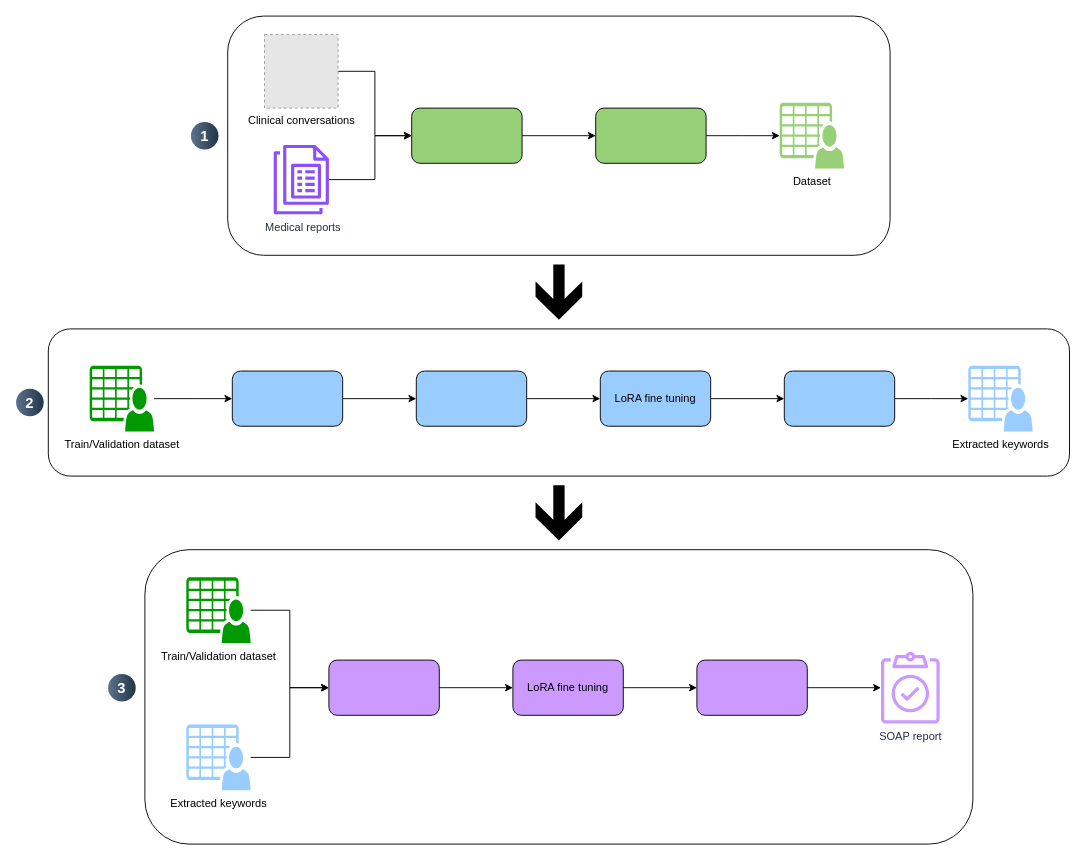
Image size: 1086x860. Some labels were removed from this diagram. Grey dashed boxes stand in for pictures. Here are the shapes that lost their labels. From the top down, the centre of each, then its label:
(x=466, y=135): Data processing
(x=650, y=135): Data set construction
(x=287, y=398): Prompt encoder
(x=471, y=398): Base ClinicalBERT model
(x=839, y=398): Tuned BERT model
(x=383, y=687): TxGemma model
(x=751, y=687): Tuned TxGemma model
